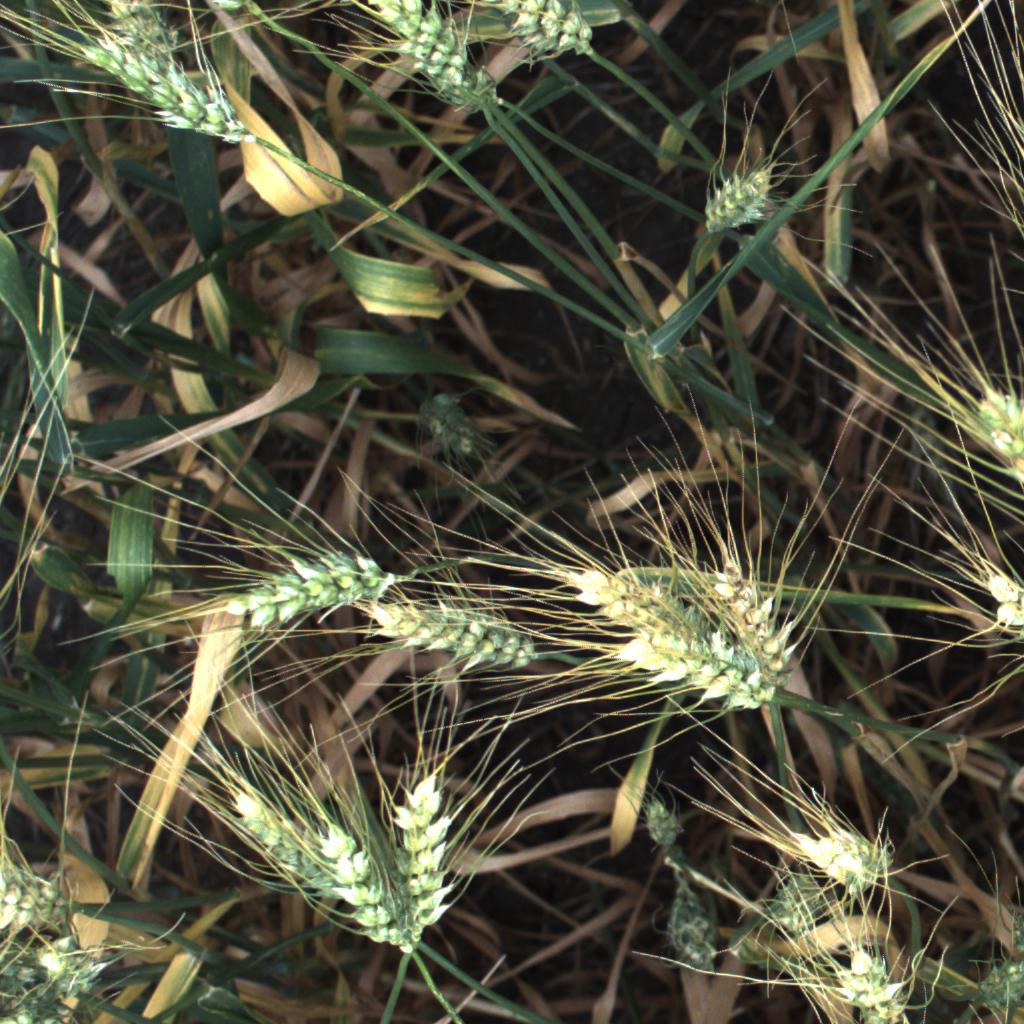0-0: (556, 556, 764, 675), (194, 544, 416, 642), (69, 32, 264, 141), (343, 581, 549, 683), (313, 804, 433, 964), (358, 0, 512, 122), (217, 767, 347, 909), (605, 620, 791, 713), (385, 756, 463, 957), (701, 546, 804, 687), (787, 804, 914, 904), (942, 365, 1024, 500), (818, 933, 921, 1024), (94, 0, 195, 87), (486, 0, 608, 69), (406, 386, 496, 477), (0, 936, 101, 1012), (0, 852, 89, 933), (698, 160, 782, 244), (621, 777, 702, 860), (976, 548, 1024, 659), (0, 0, 103, 2)
